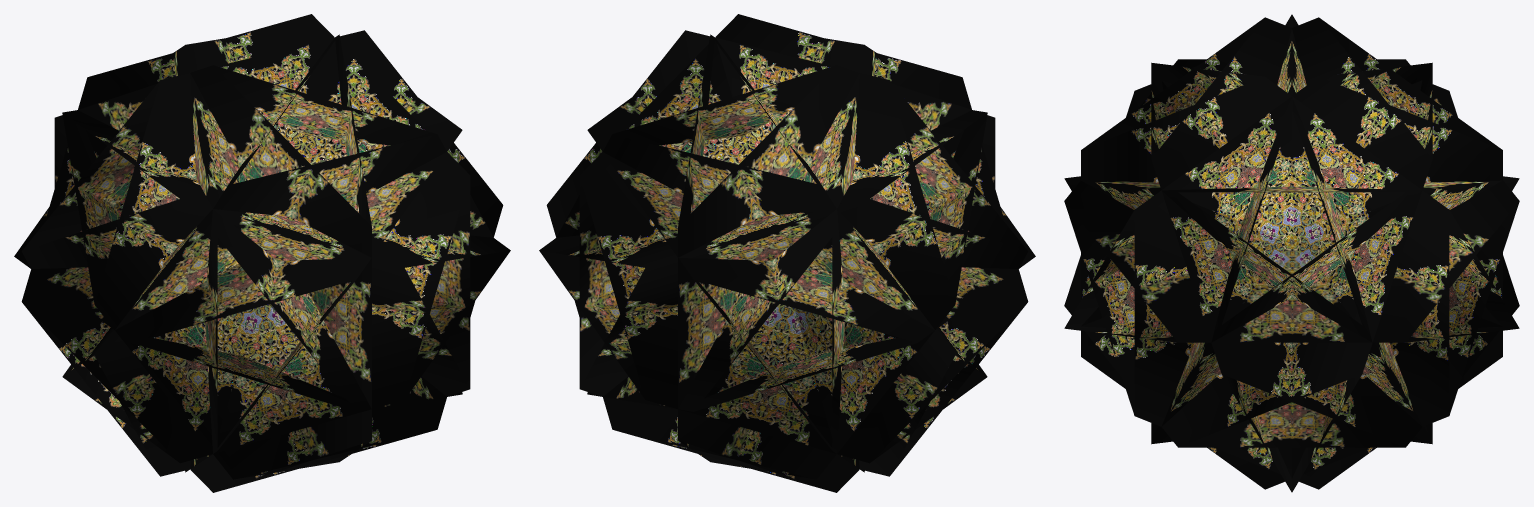
Rendered from TruncatedGreatIcosahedron4.gltf.
The picture shows the model from 3 angles, left to right: view 1: azimuth 30°, elevation 25°; view 2: azimuth 150°, elevation 25°; view 3: azimuth 270°, elevation 25°; orthographic projection. The views are drawn at different scales.
Visible parts, largest first — view 1: TruncatedGreatIcosahedron; view 2: TruncatedGreatIcosahedron; view 3: TruncatedGreatIcosahedron.
Boxes of the visible parts, bbox=[...] form: TruncatedGreatIcosahedron: bbox=[14, 14, 510, 492]; TruncatedGreatIcosahedron: bbox=[539, 14, 1035, 492]; TruncatedGreatIcosahedron: bbox=[1064, 14, 1519, 492].
Size of the model in its own units: 2 by 2 by 2.
Materials: 1 (1 with a texture image).
